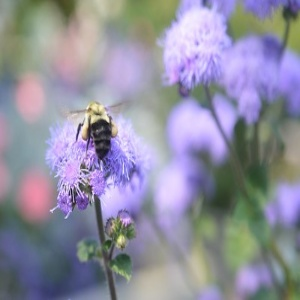bee: (62, 99, 135, 165)
